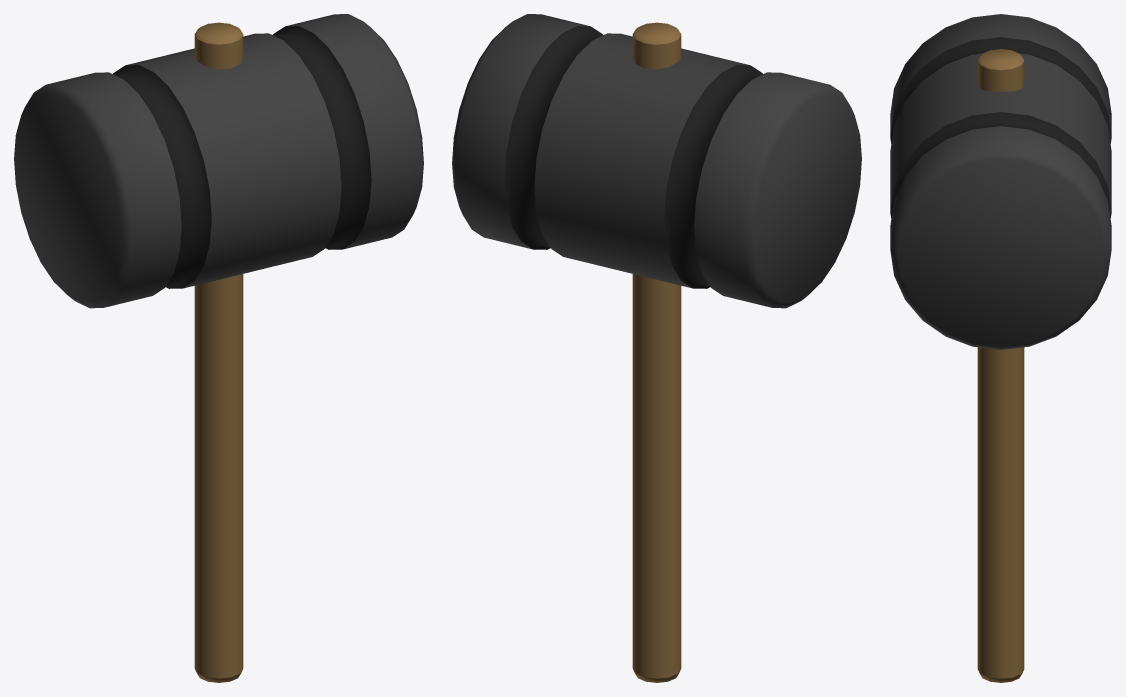
Rendered from hammer.fbx.
3 views of the same model, side by side, from view 1: azimuth 30°, elevation 25°; view 2: azimuth 150°, elevation 25°; view 3: azimuth 270°, elevation 25° (orthographic). The views are drawn at different scales.
Visible parts, largest first — view 1: hammer; view 2: hammer; view 3: hammer.
Part boxes in pixels (box(x1,y1,x2,y2)): hammer: box(14, 14, 423, 682); hammer: box(452, 14, 861, 682); hammer: box(890, 14, 1111, 682).
Size of the model in its own units: 14.84 by 30.09 by 9.8.
Materials: 1 (1 with a texture image).
